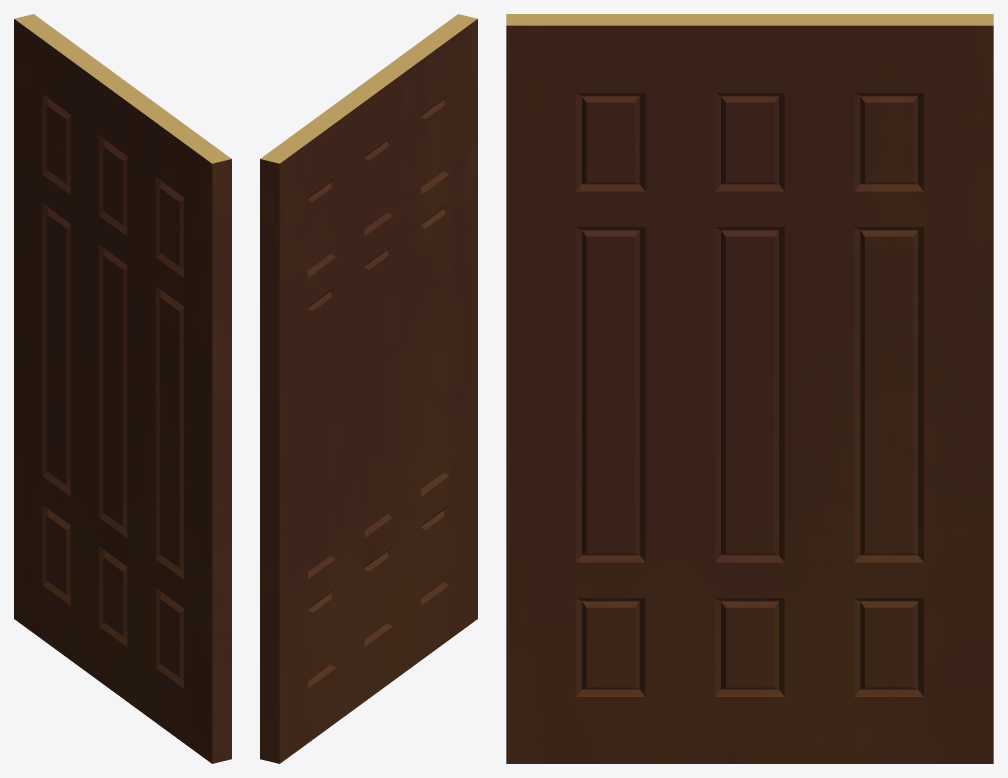
Rendered from mainDoor.fbx.
The picture shows the model from 3 angles, left to right: view 1: azimuth 30°, elevation 25°; view 2: azimuth 150°, elevation 25°; view 3: azimuth 270°, elevation 25°; orthographic projection. The views are drawn at different scales.
Visible parts, largest first — view 1: polySurface66; view 2: polySurface66; view 3: polySurface66.
Part boxes in pixels (x1=…): polySurface66: x1=14, y1=14, x2=231, y2=763; polySurface66: x1=260, y1=14, x2=477, y2=763; polySurface66: x1=506, y1=14, x2=993, y2=763.
Bounding box in the file's own units: 0.0759 × 2.21 × 1.32.
